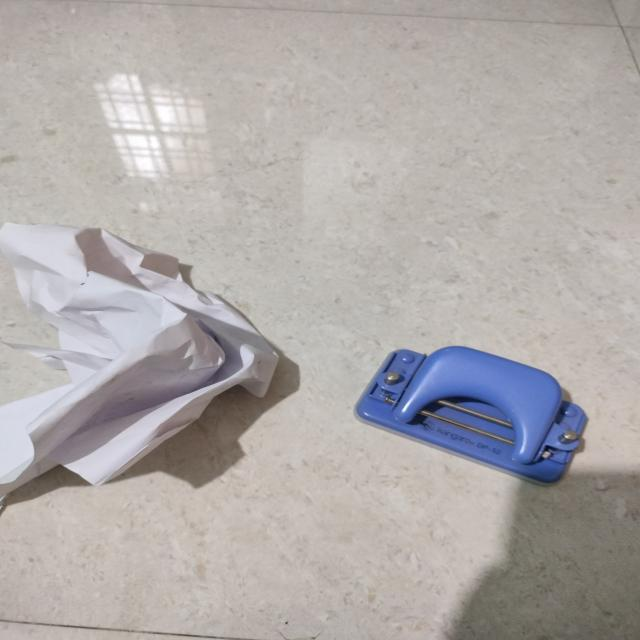dry: (4, 193, 322, 526), (344, 323, 623, 514)
